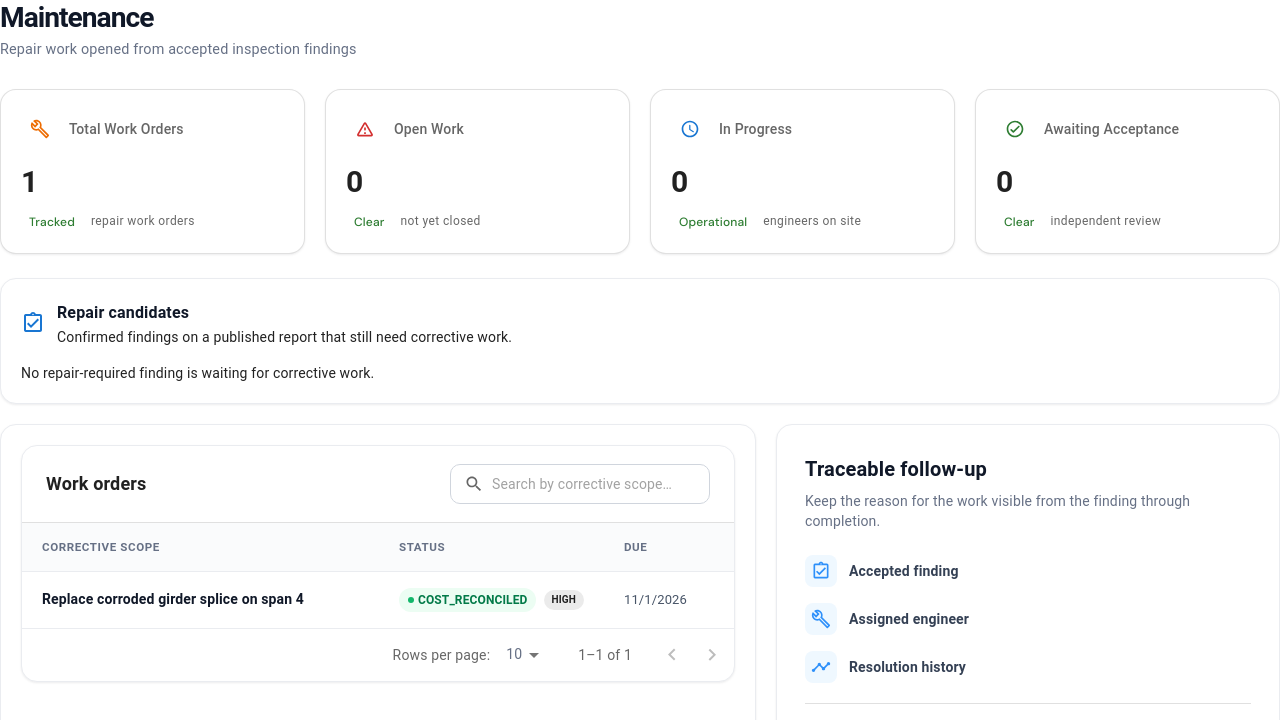
it: MaintenancePage › offers the administrator the close action only after cost reconciliation
Click the text "Replace corroded girder splice on span 4" at (173, 599), box left=42, top=591, right=304, bottom=607
(page scrolled)
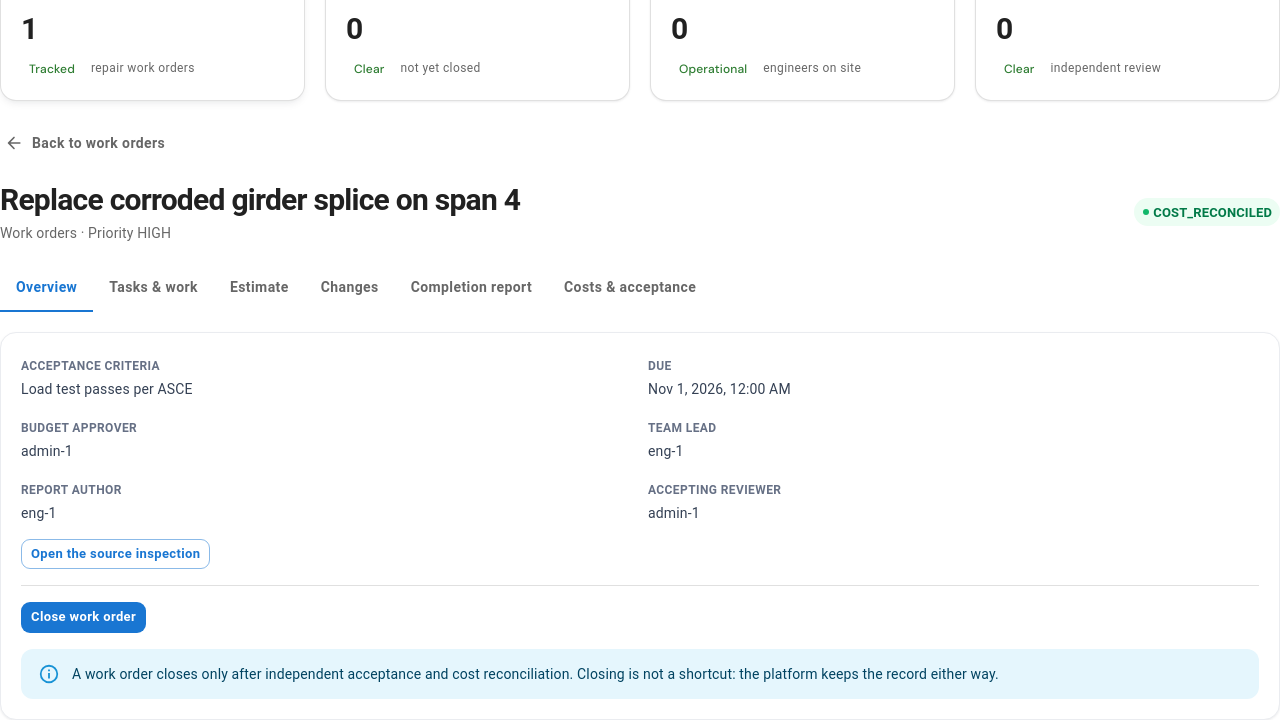
Expected: the button "Close work order" is shown, left=21, top=602, right=146, bottom=633
